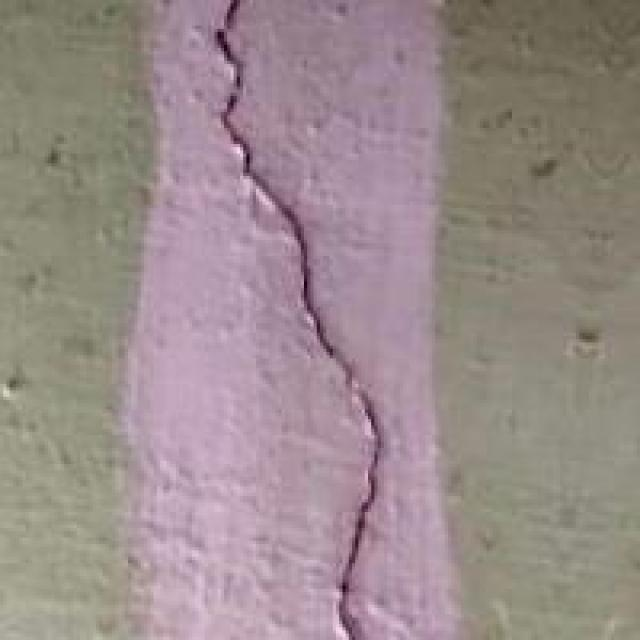crack: (186, 0, 400, 637)
